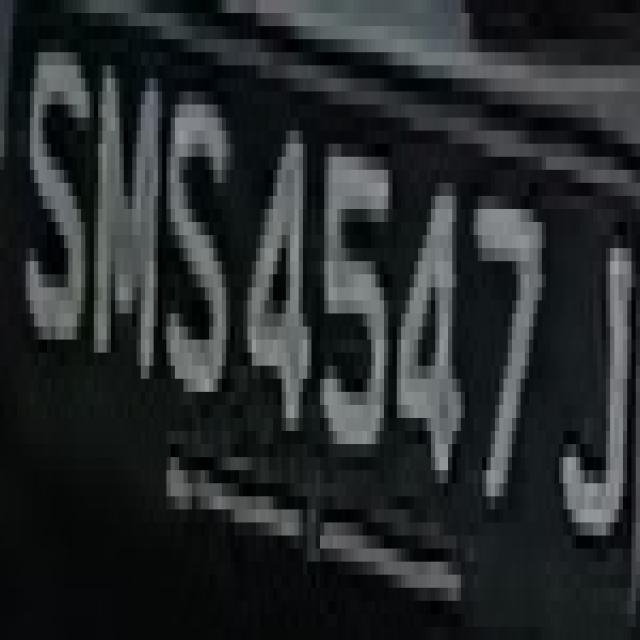4: (234, 79, 316, 484), (392, 157, 478, 536)
5: (312, 118, 388, 496)
7: (461, 183, 550, 522)
J: (546, 196, 632, 575)
M: (85, 52, 158, 418)
S: (158, 52, 235, 418), (17, 13, 85, 379)
